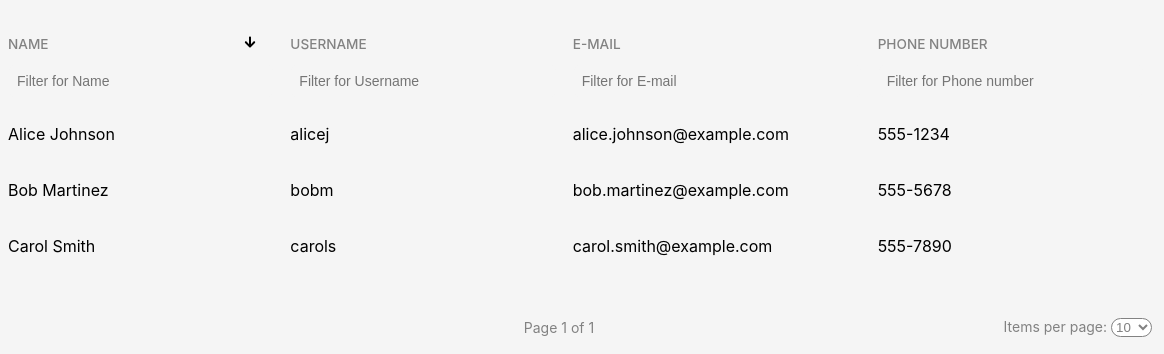
it: renders a message when there are not results for filter query
Type "Alice Smith" into the field with placeholder "Filter for Name" at {"x": 141, "y": 81}, box [8,64,274,98]
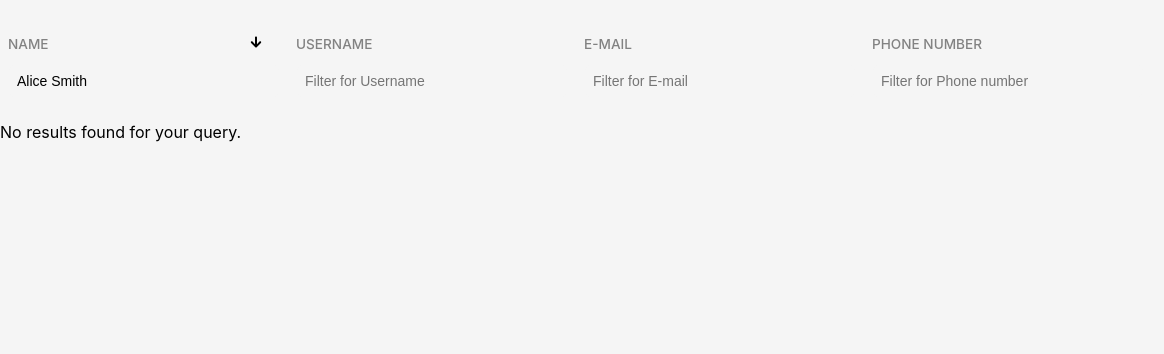
Check: the number of rows is 1, box [0,16,1152,106]
Check: the text "No results found for your query." is shown, box [0,122,241,142]
